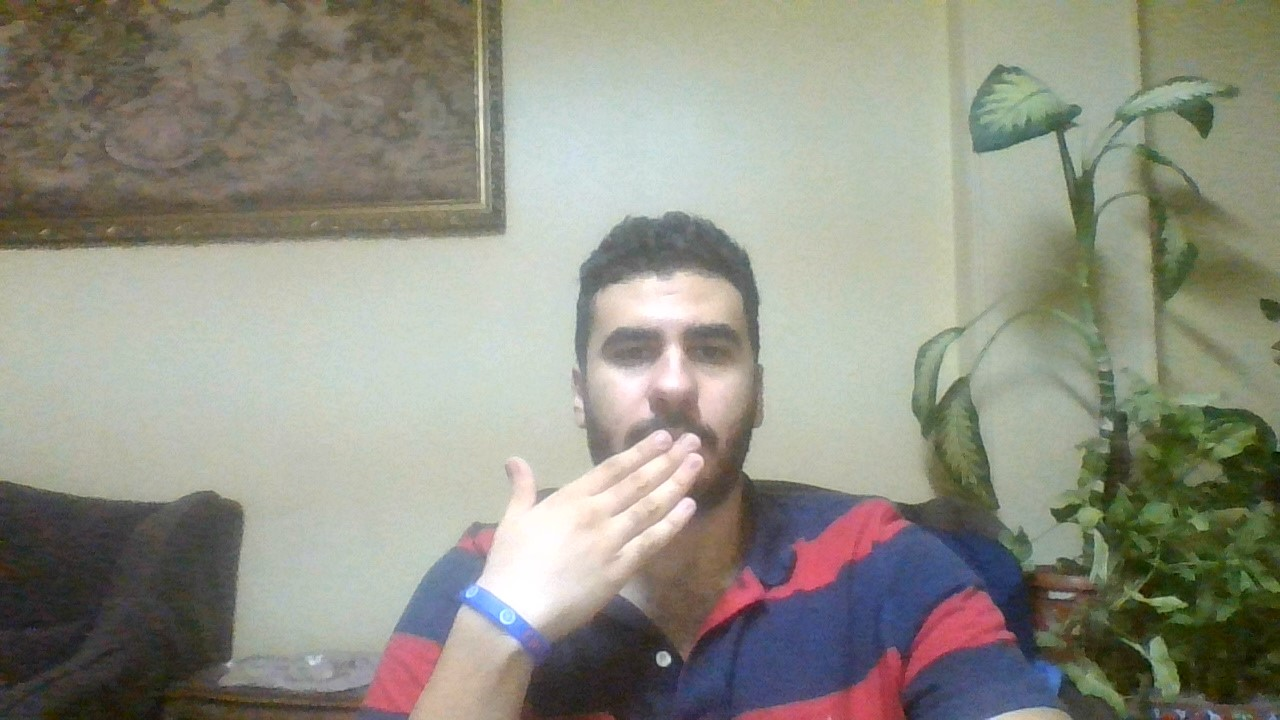thankyou: (482, 431, 707, 612)
